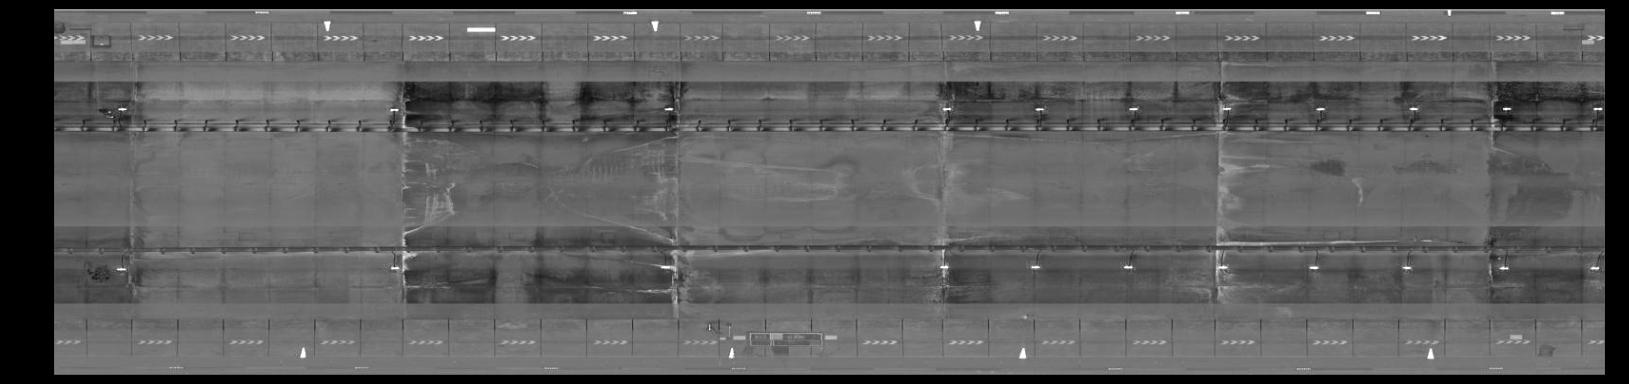light: (1032, 101, 1049, 114), (1396, 262, 1415, 274), (1026, 260, 1045, 273), (1401, 103, 1422, 113), (1216, 104, 1236, 114), (383, 263, 404, 273), (933, 262, 956, 271), (651, 262, 674, 271), (1491, 264, 1512, 273), (1497, 104, 1515, 114), (1585, 262, 1601, 273), (1309, 104, 1328, 113), (1212, 263, 1231, 272), (386, 105, 403, 115), (114, 103, 131, 113), (112, 265, 129, 275), (660, 103, 674, 114), (1124, 104, 1142, 113), (937, 104, 955, 113), (1120, 262, 1137, 271), (1590, 103, 1603, 113), (1304, 264, 1323, 271)
